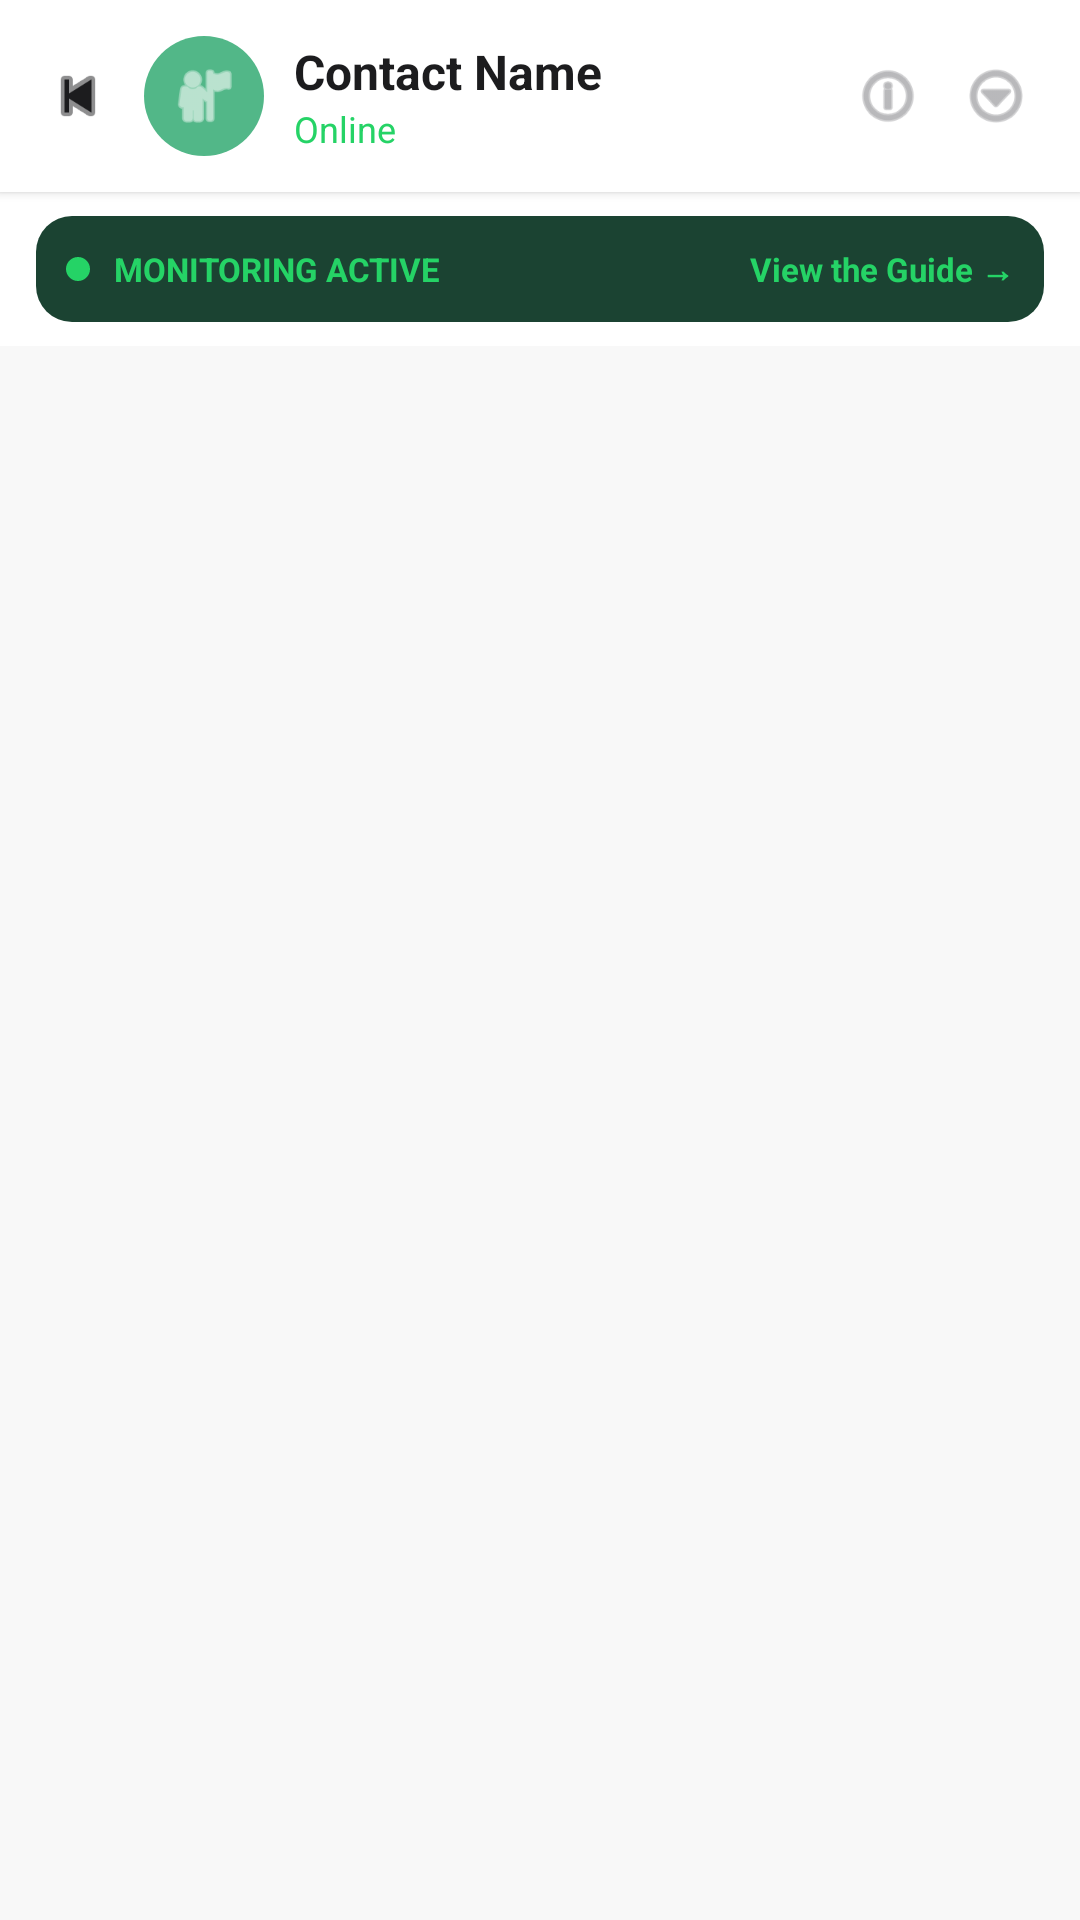

Where icons sit on this 1080px x 1920px app screen, as (x1, y1, x2, y2):
Avatar: (144, 36, 264, 156)
Back: (61, 76, 95, 116)
Info: (862, 70, 914, 122)
More: (970, 70, 1022, 122)
